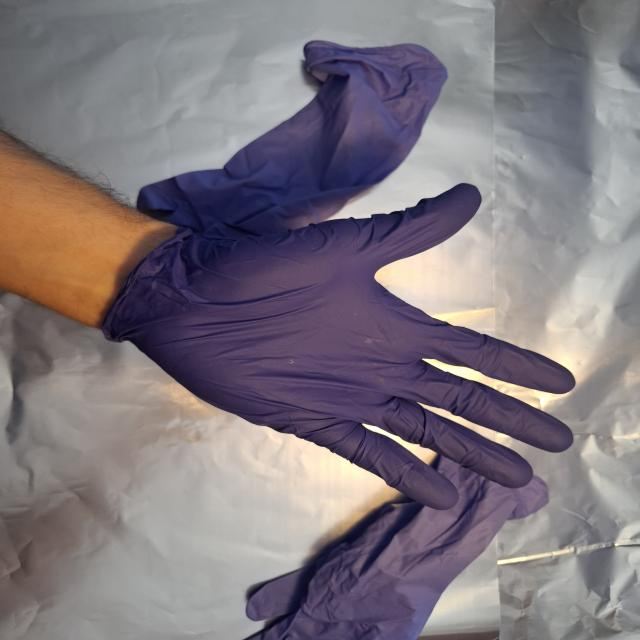glove_on: (103, 180, 580, 514)
